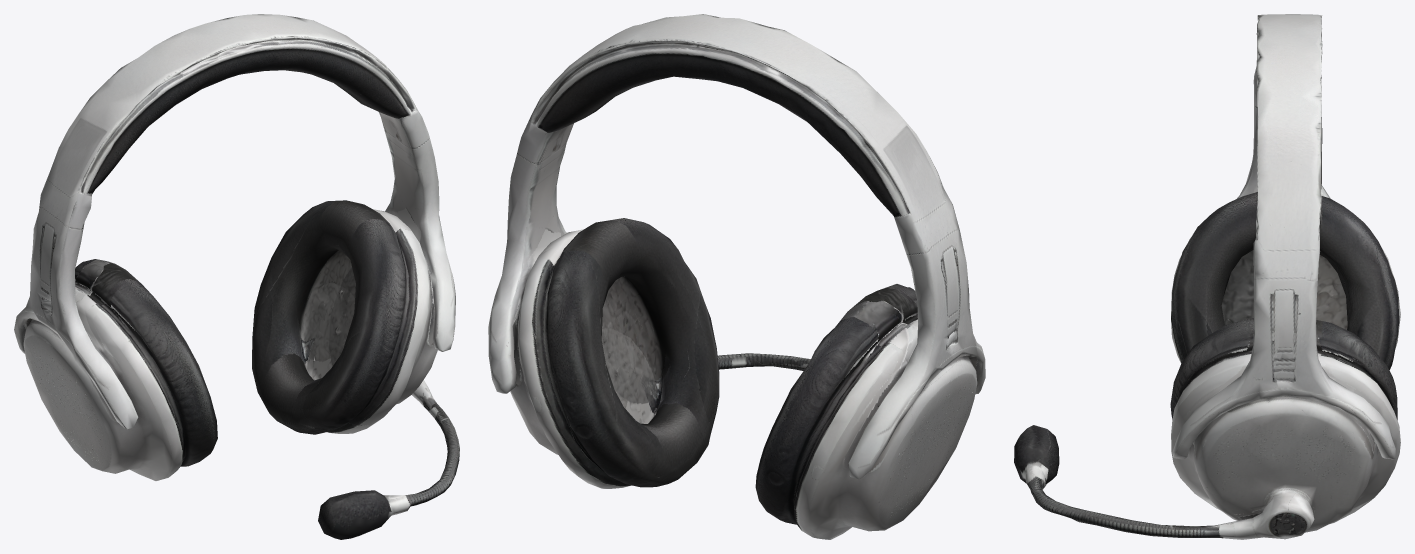
Rendered from Headset_Original.glb.
3 renders of one model, left to right at view 1: azimuth 30°, elevation 25°; view 2: azimuth 150°, elevation 25°; view 3: azimuth 270°, elevation 25°, orthographic. The views are drawn at different scales.
Parts seen in each view (by area): view 1: texture_mapping; view 2: texture_mapping; view 3: texture_mapping.
Boxes of the visible parts, <box> form: texture_mapping: <box>14,14,459,539</box>; texture_mapping: <box>488,14,985,539</box>; texture_mapping: <box>1014,14,1400,539</box>.
Bounding box in the file's own units: 0.9517 × 1 × 0.7933.
Materials: 1 (1 with a texture image).
